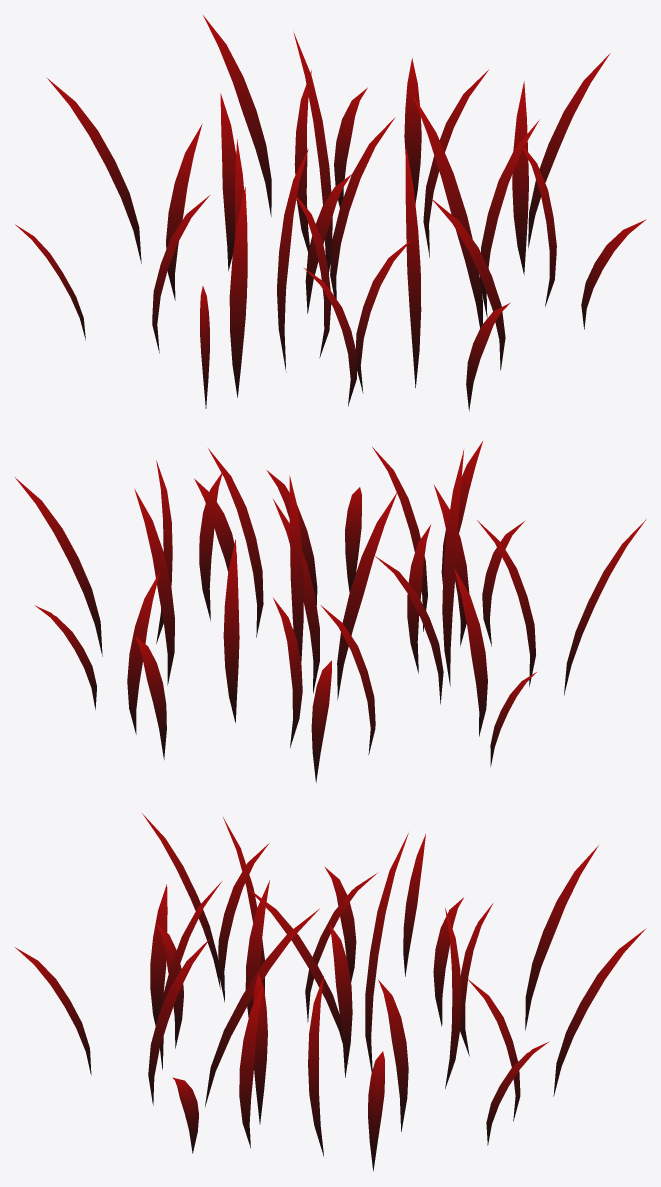
The model's file is Grass_LOD1.fbx.
3 renders of one model, top to bottom at view 1: azimuth 30°, elevation 25°; view 2: azimuth 150°, elevation 25°; view 3: azimuth 270°, elevation 25°, orthographic. The views are drawn at different scales.
Parts seen in each view (by area): view 1: Grass; view 2: Grass; view 3: Grass.
Part boxes in pixels (x1=…): Grass: x1=15, y1=15, x2=646, y2=411; Grass: x1=15, y1=441, x2=646, y2=782; Grass: x1=15, y1=813, x2=646, y2=1171.
Size of what is drawn, in the model's own units: 368 by 160 by 375.
